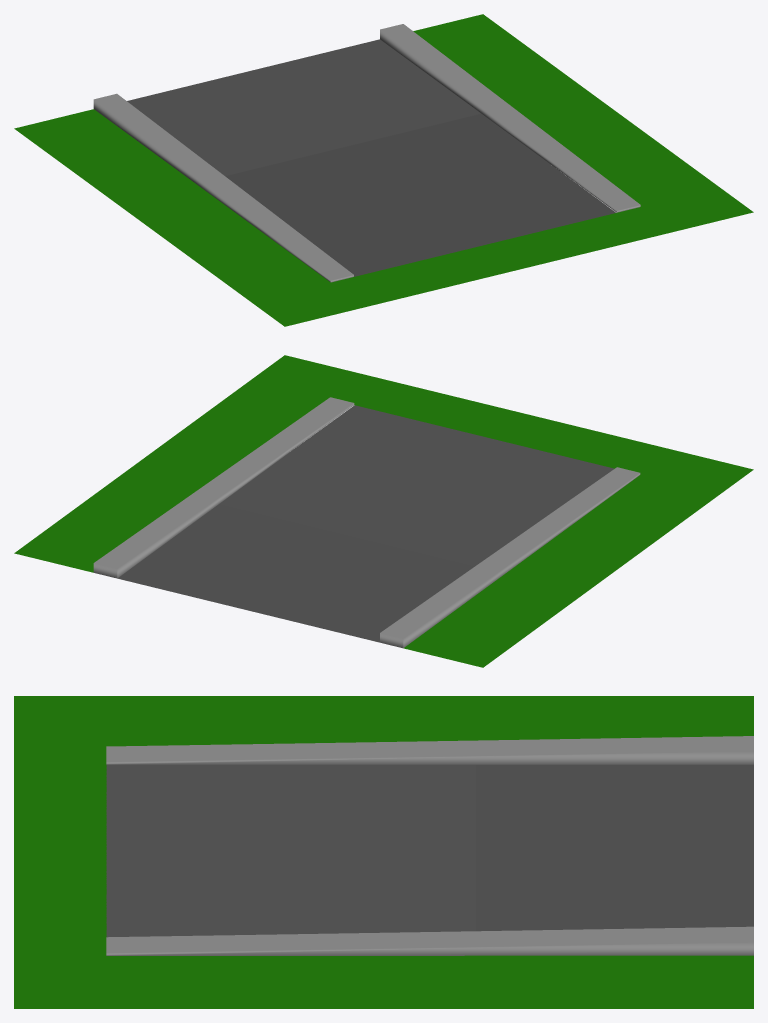
Rendered from ground_pathEnd.fbx.
The picture shows the model from 3 angles, top to bottom: view 1: azimuth 30°, elevation 25°; view 2: azimuth 150°, elevation 25°; view 3: azimuth 270°, elevation 25°; orthographic projection. The views are drawn at different scales.
Visible parts, largest first — view 1: ground_pathEnd; view 2: ground_pathEnd; view 3: ground_pathEnd.
Boxes of the visible parts, x1,y1,x2,y2 form: ground_pathEnd: (14, 14, 753, 326); ground_pathEnd: (14, 355, 753, 667); ground_pathEnd: (14, 696, 753, 1008).
Size of the model in its own units: 100 by 1.99 by 100.
